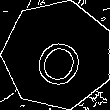O_NE: (27, 23, 89, 87)
